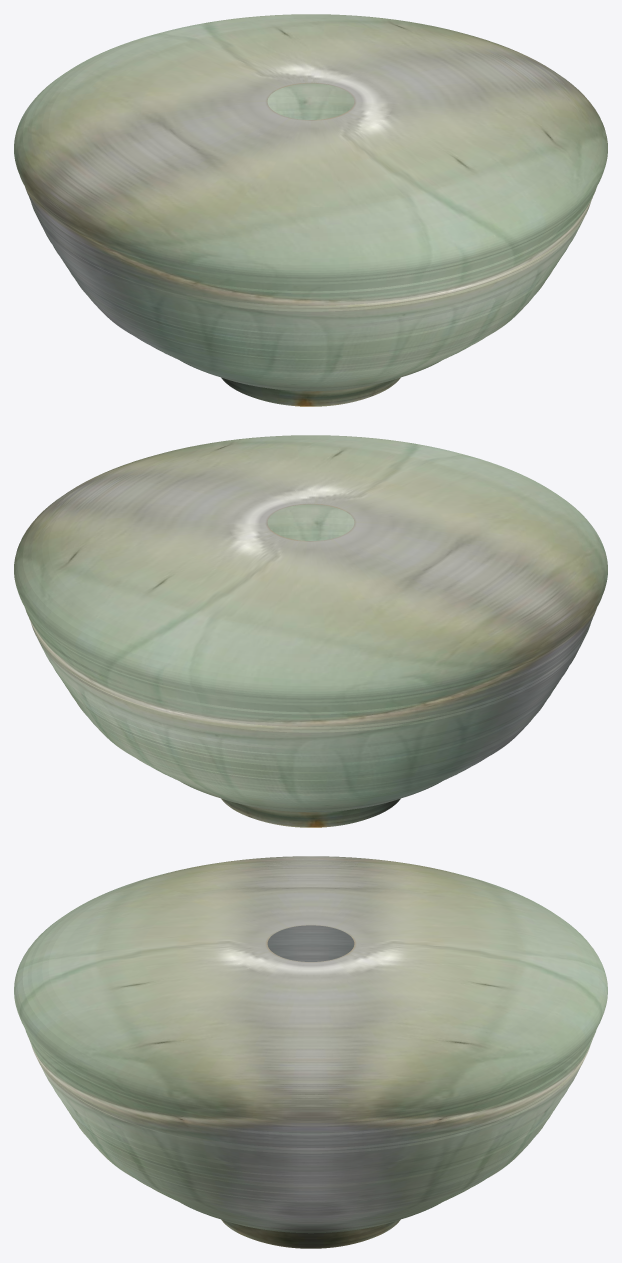
The model's file is cma-76526.glb.
3 views of the same model, one above another, from view 1: azimuth 30°, elevation 25°; view 2: azimuth 150°, elevation 25°; view 3: azimuth 270°, elevation 25° (orthographic).
Parts seen in each view (by area): view 1: geometry_0; view 2: geometry_0; view 3: geometry_0.
Boxes of the visible parts, left/top/right/bottom form: geometry_0: left=14, top=14, right=607, bottom=406; geometry_0: left=14, top=435, right=607, bottom=827; geometry_0: left=14, top=856, right=607, bottom=1248.
Bounding box in the file's own units: 58.17 × 30 × 58.17.
1 material, 1 textured.
